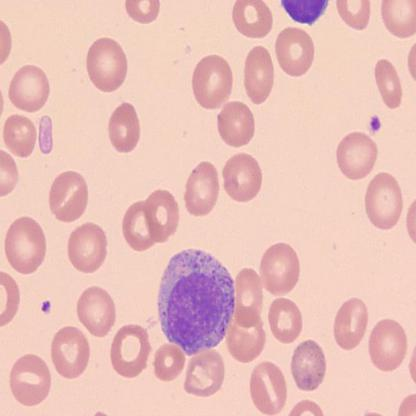Myelocyte: (154, 245, 235, 352)
